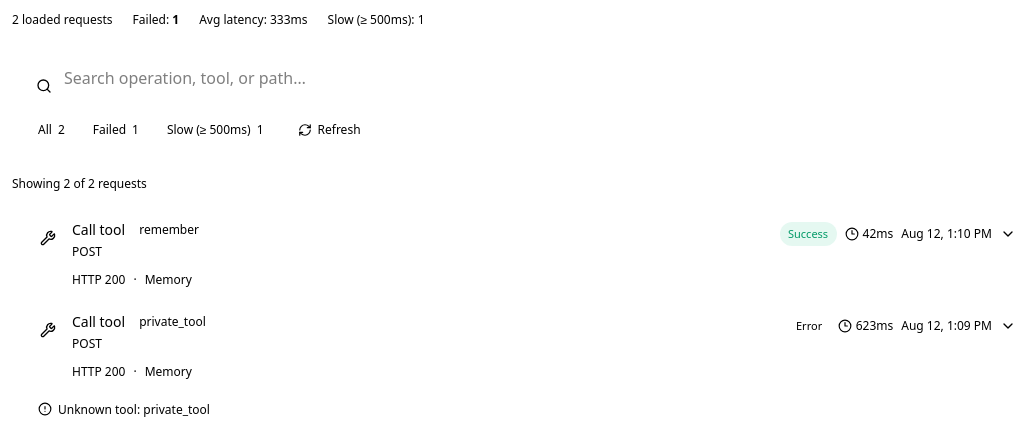
Test: McpRequestLogs › prioritizes the tool operation and semantic errors over an internal path
Expected: the text "Call tool" is shown 2 times, [72,220,125,240]; [72,312,125,332]
Expected: the text "private_tool" is shown, [139,313,206,330]
Click the button "Failed 1" at point(116, 130), box [81,114,151,146]
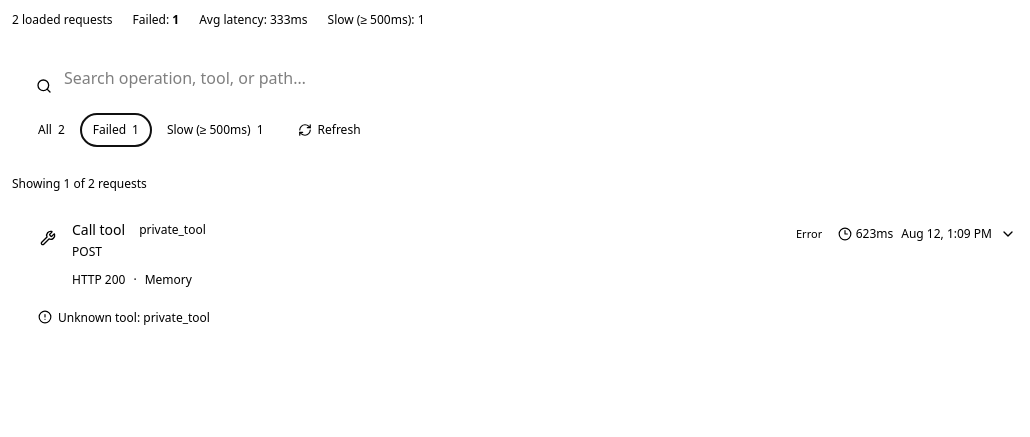
Expected: the text "private_tool" is shown, [139,221,206,238]
Result: the button "remember" is gone
